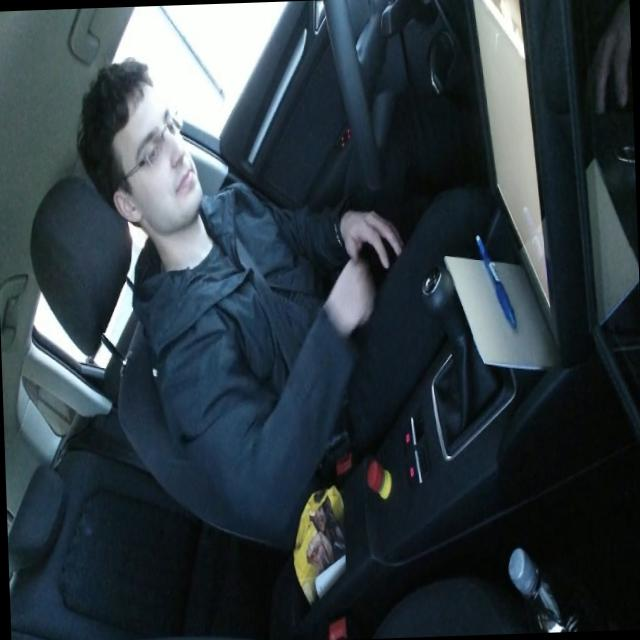pen: (474, 230, 516, 330)
